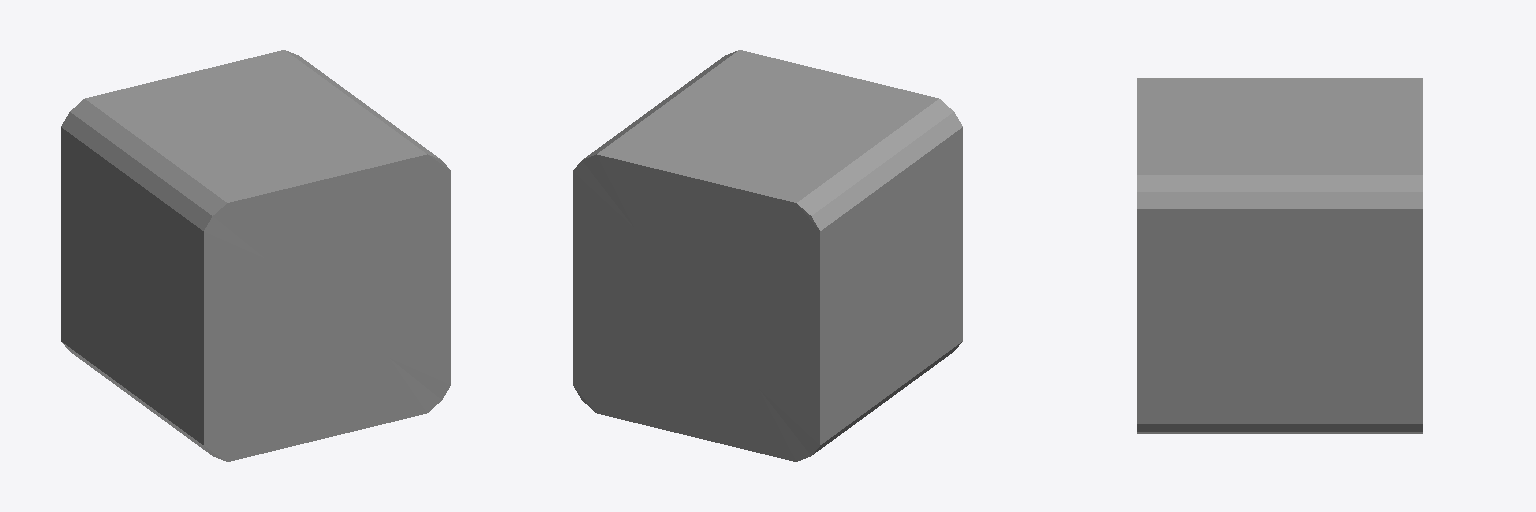
Rendered from Block.obj.
3 views of the same model, side by side, from view 1: azimuth 30°, elevation 25°; view 2: azimuth 150°, elevation 25°; view 3: azimuth 270°, elevation 25° (orthographic).
Parts seen in each view (by area): view 1: Cube.002_Cube.016; view 2: Cube.002_Cube.016; view 3: Cube.002_Cube.016.
Part boxes in pixels (bbox=[...]): Cube.002_Cube.016: bbox=[61, 50, 450, 461]; Cube.002_Cube.016: bbox=[573, 50, 962, 461]; Cube.002_Cube.016: bbox=[1137, 78, 1422, 433].
Bounding box in the file's own units: 0.626 × 0.626 × 0.626.